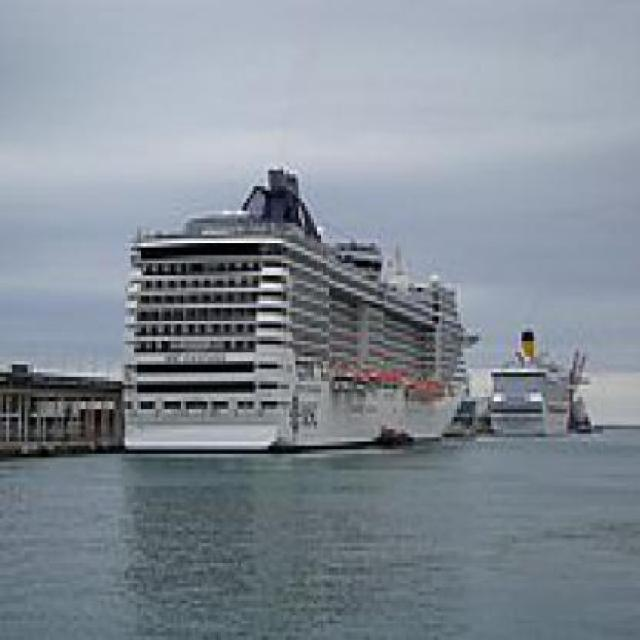cruise: (104, 159, 489, 466)
